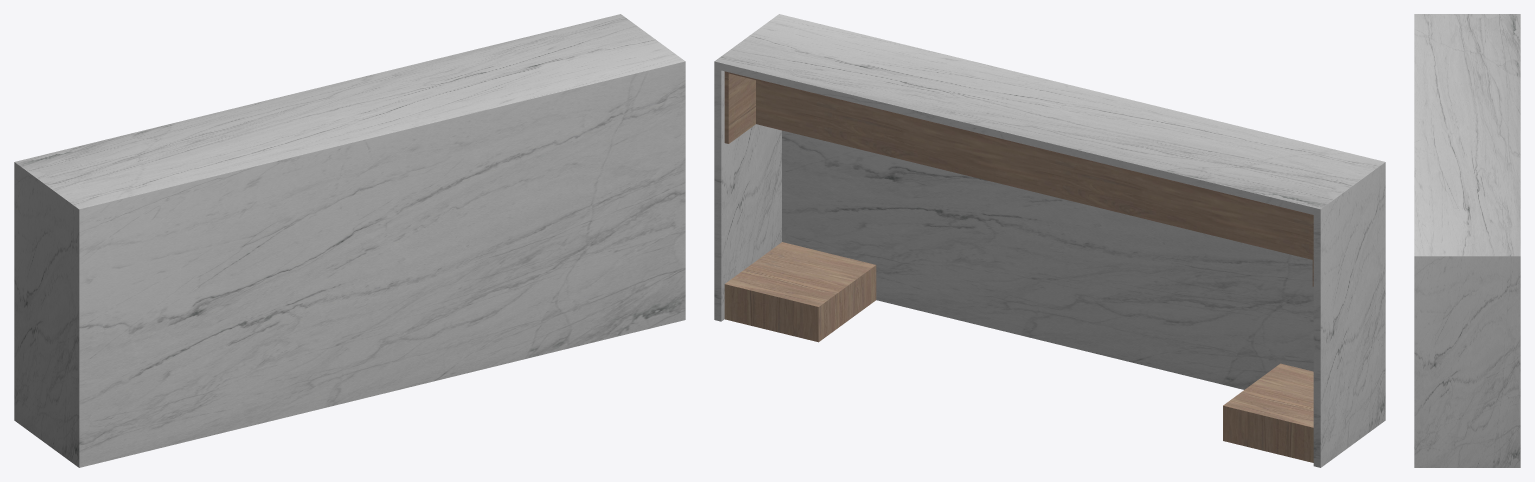
The model's file is desk.glb.
The picture shows the model from 3 angles, left to right: view 1: azimuth 30°, elevation 25°; view 2: azimuth 150°, elevation 25°; view 3: azimuth 270°, elevation 25°; orthographic projection. The views are drawn at different scales.
Visible parts, largest first — view 1: Object_9_/Marble_C_150cm_0; view 2: Object_9_/Marble_C_150cm_0, Object_10_/Veneer_B01_120cm_9_0, Object_11_/Veneer_B01_120cm_10_0, Object_12_/Veneer_B01_120cm_11_0; view 3: Object_9_/Marble_C_150cm_0.
Part boxes in pixels (left/top/right/bottom): Object_9_/Marble_C_150cm_0: left=14, top=14, right=685, bottom=467; Object_9_/Marble_C_150cm_0: left=714, top=14, right=1385, bottom=467; Object_10_/Veneer_B01_120cm_9_0: left=724, top=71, right=1313, bottom=286; Object_11_/Veneer_B01_120cm_10_0: left=724, top=242, right=876, bottom=342; Object_12_/Veneer_B01_120cm_11_0: left=1223, top=363, right=1313, bottom=462; Object_9_/Marble_C_150cm_0: left=1414, top=14, right=1520, bottom=467.
Bounding box in the file's own units: 108 × 44 × 20.
4 materials, 4 textured.
